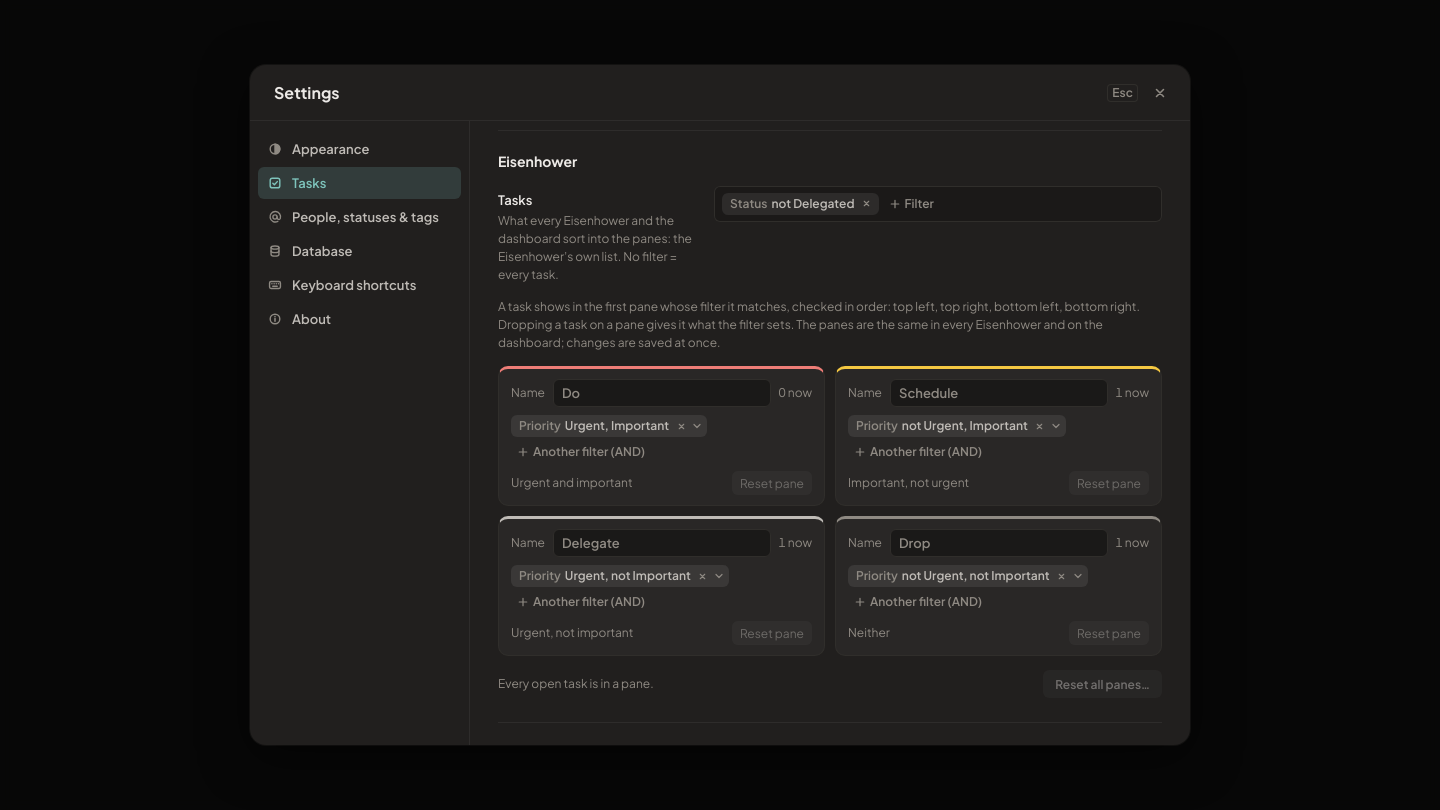
Test case: Settings › Tasks › Eisenhower › its list’s filter line › Esc in its filter picker closes the picker only, not Settings
The width and height of the screenshot is (1440, 810).
(page scrolled)
Click the button with test id "list-filter-chip" showing "Status not Delegated" at (800,204), box [722, 192, 878, 214]
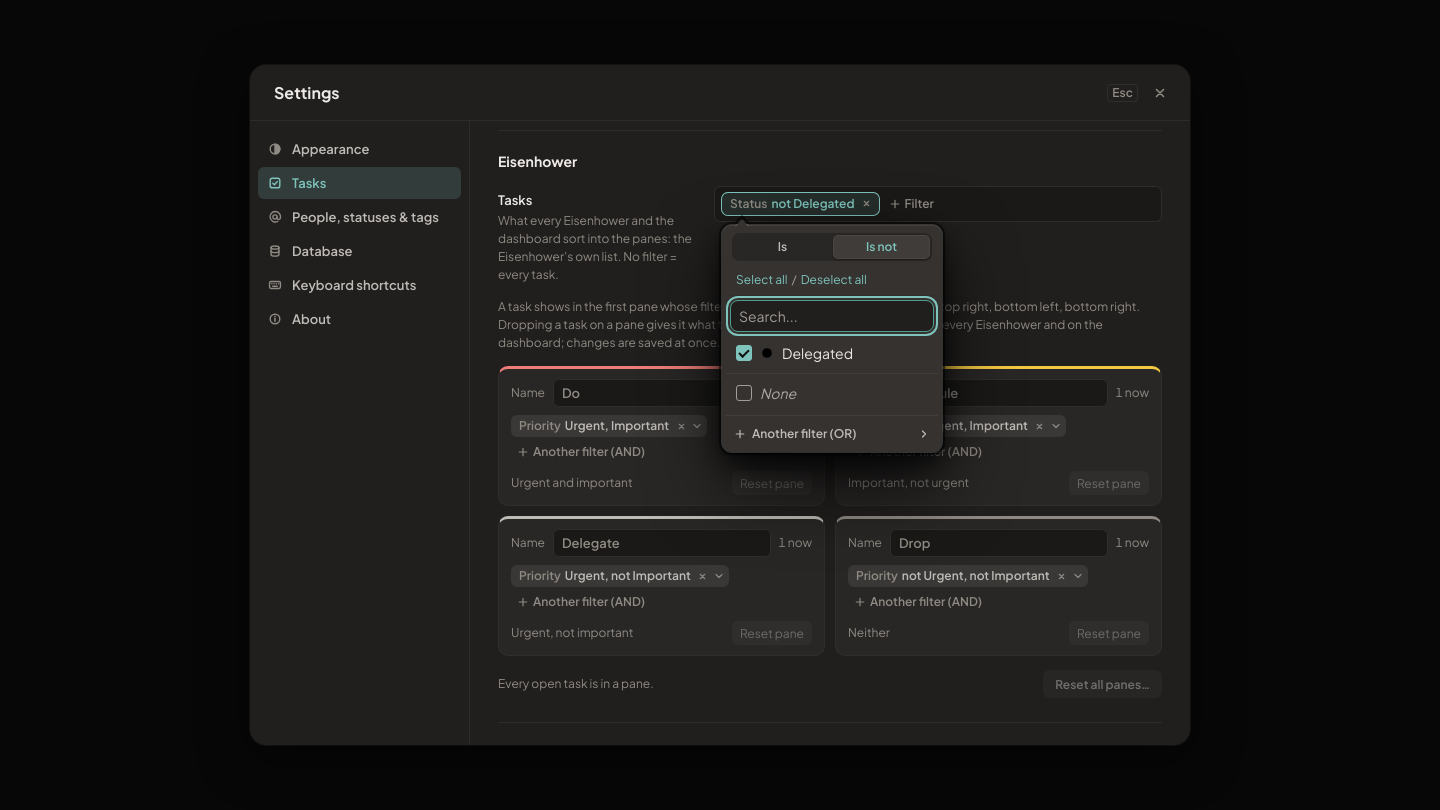
Press Escape in the dialog with test id "list-filter-picker", box [722, 224, 942, 452]
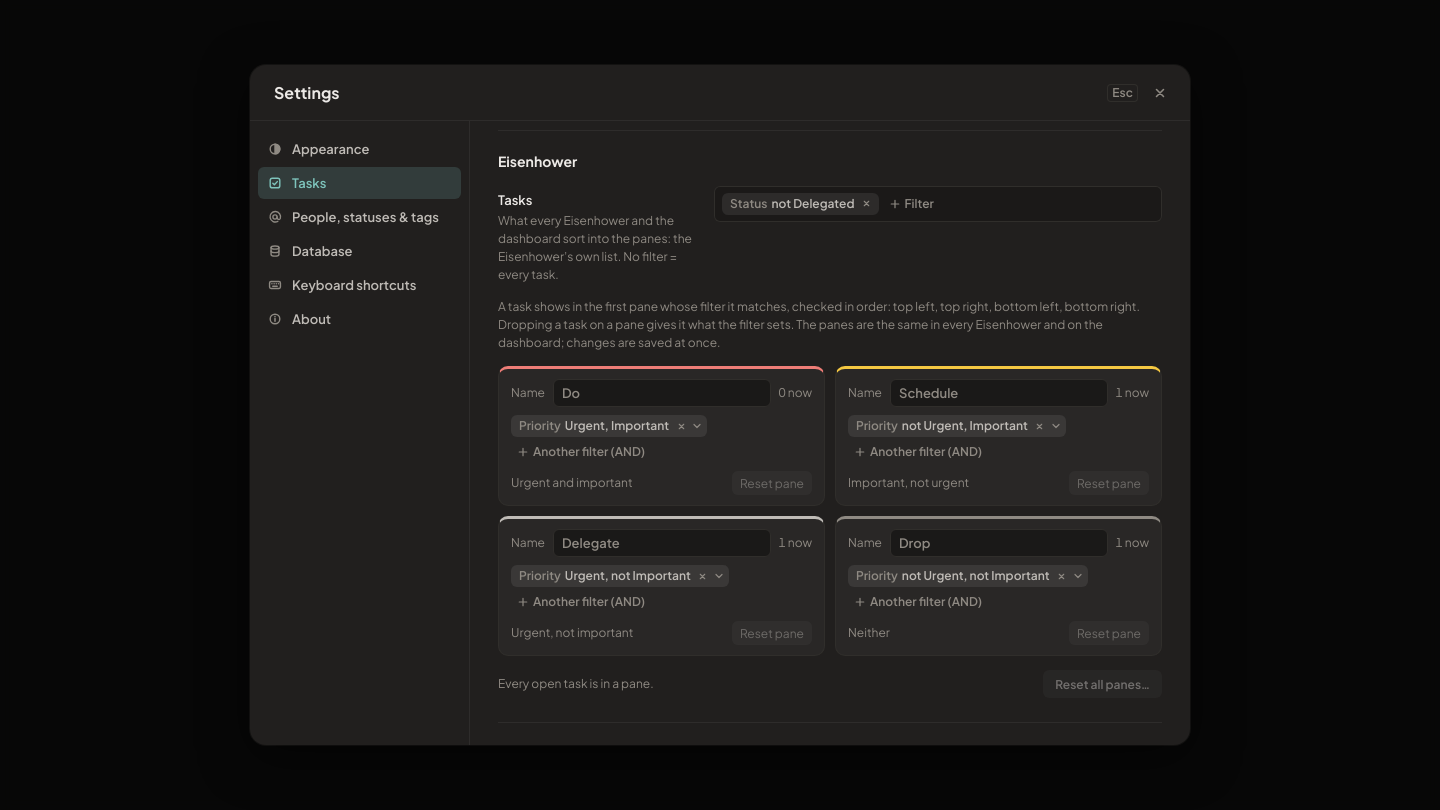
Expected: the dialog with test id "list-filter-picker" is gone
